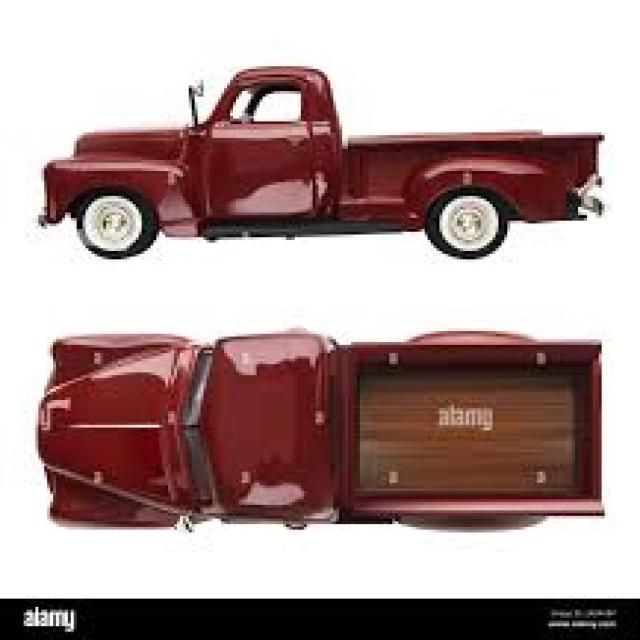truck: (45, 62, 612, 263), (38, 333, 598, 529)
